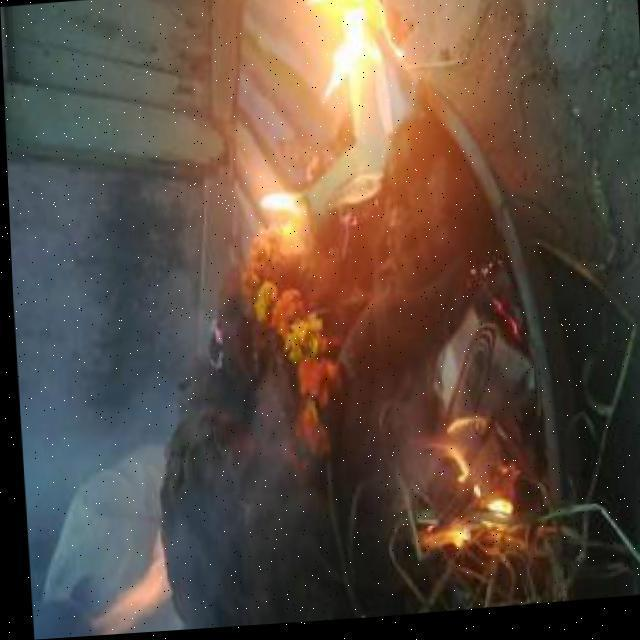fire: (410, 406, 514, 569), (299, 0, 405, 138), (81, 547, 168, 637), (244, 186, 312, 238)
